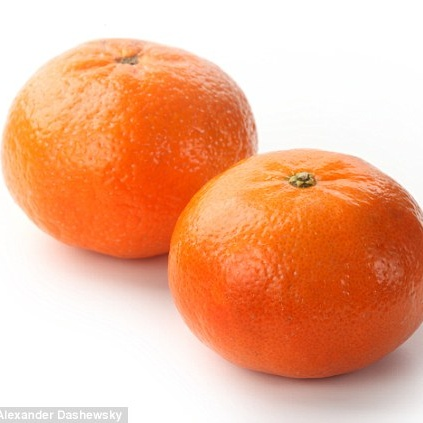mandarin: (163, 149, 423, 382), (1, 39, 257, 260)
